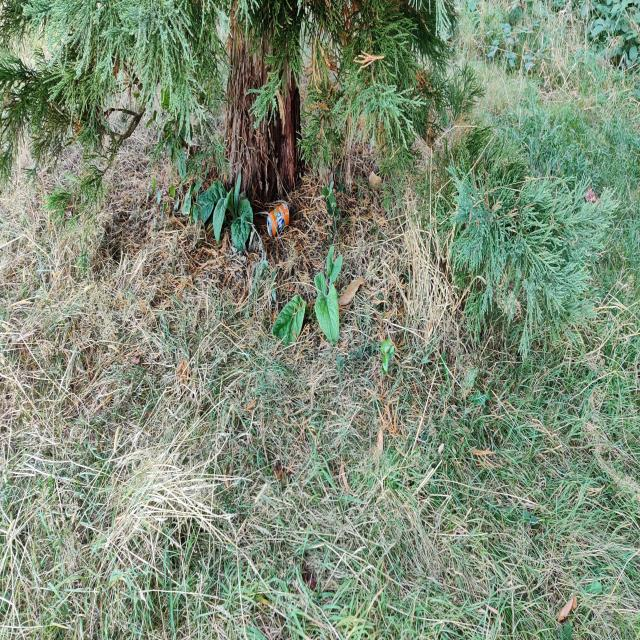litter: (268, 196, 289, 238)
